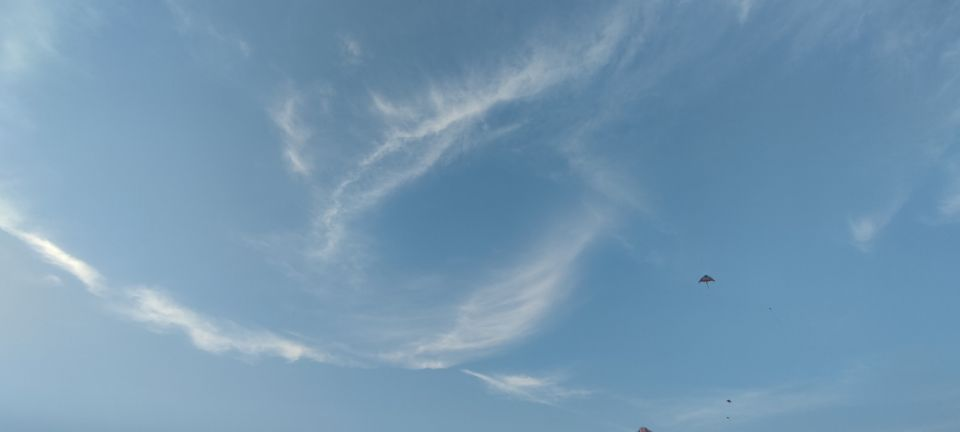Cirrus: (7, 196, 646, 389), (251, 29, 698, 240)
